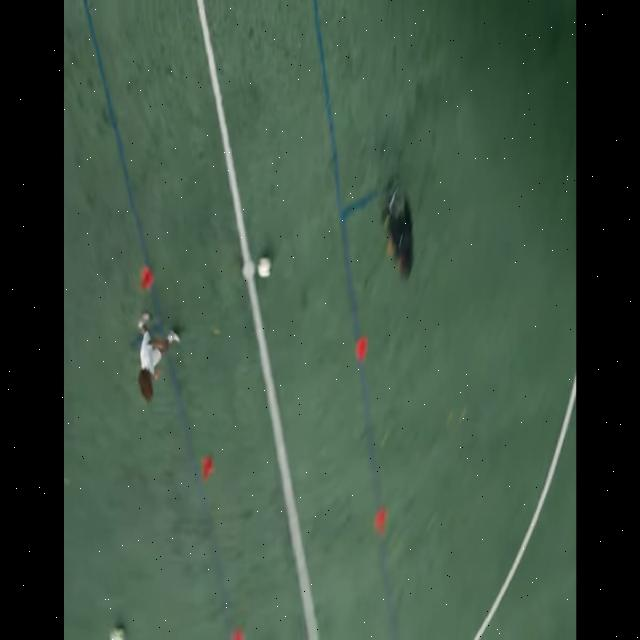humans: (132, 312, 188, 410), (380, 164, 417, 282)
